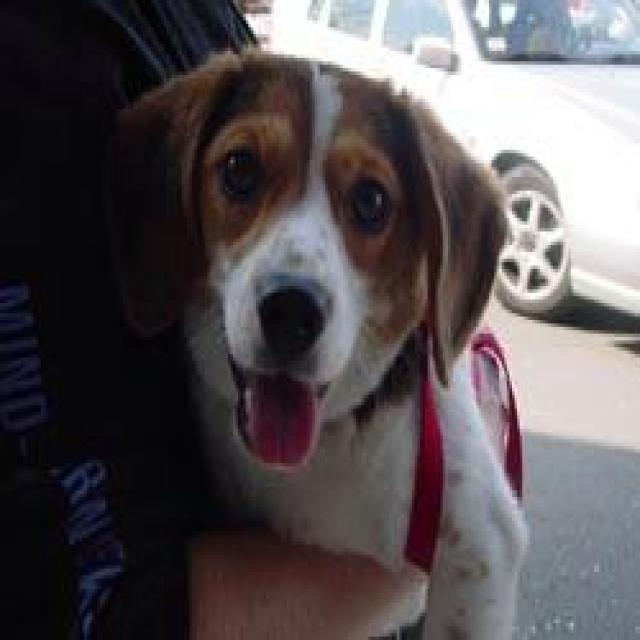beagle: (128, 48, 528, 636)
